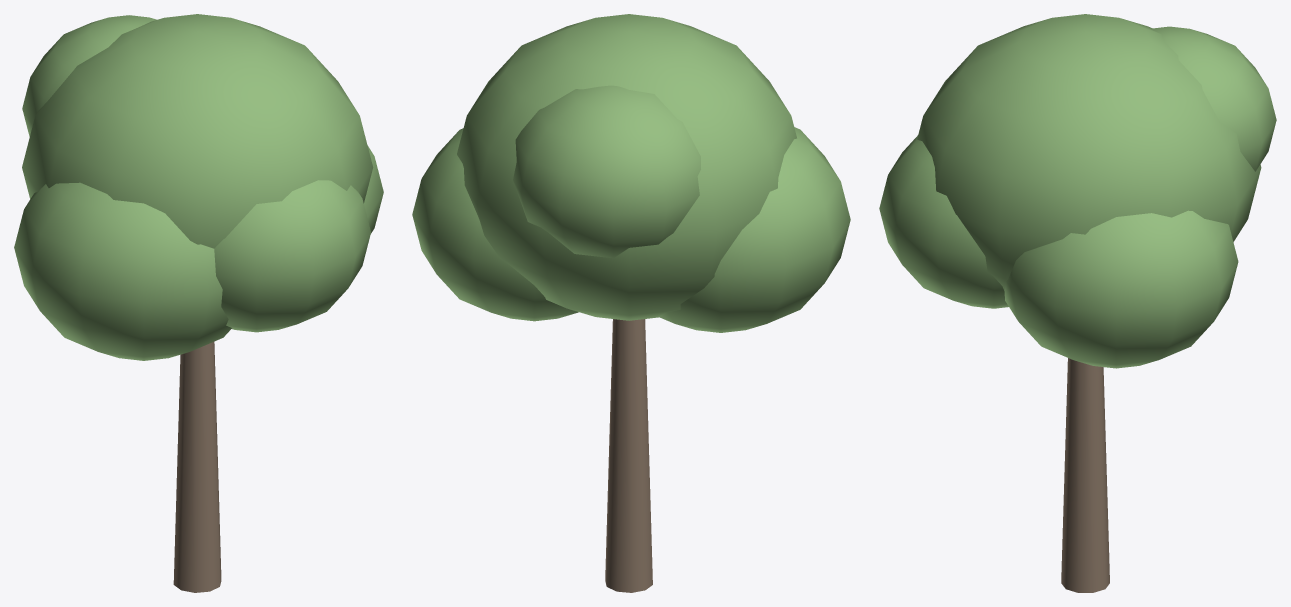
Rendered from tree_round.glb.
3 views of the same model, side by side, from view 1: azimuth 30°, elevation 25°; view 2: azimuth 150°, elevation 25°; view 3: azimuth 270°, elevation 25° (orthographic).
Parts seen in each view (by area): view 1: tint_leaves, bark; view 2: tint_leaves, bark; view 3: tint_leaves, bark.
Boxes of the visible parts, x1,y1,x2,y2 form: tint_leaves: (14,14,383,360); bark: (173,342,221,592); tint_leaves: (412,14,850,332); bark: (605,319,652,592); tint_leaves: (879,14,1276,368); bark: (1061,358,1109,592).
Size of the model in its own units: 2.8 by 3.98 by 2.6.
